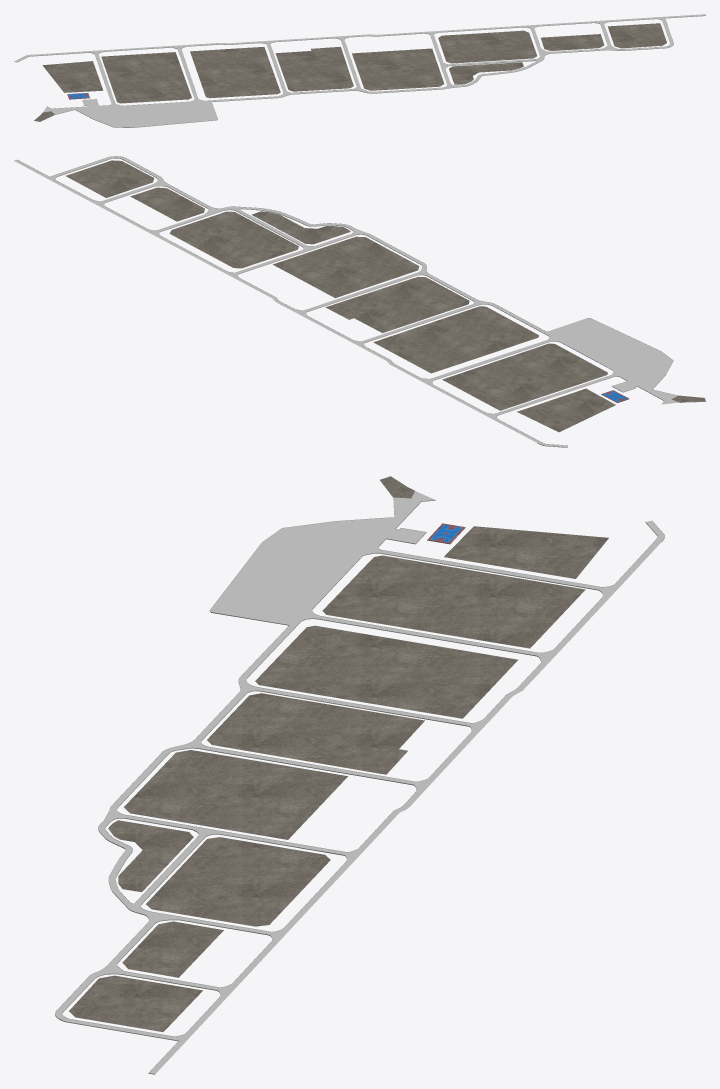
The model's file is road_p08_01.fbx.
The picture shows the model from 3 angles, top to bottom: view 1: azimuth 30°, elevation 25°; view 2: azimuth 150°, elevation 25°; view 3: azimuth 270°, elevation 25°; orthographic projection. The views are drawn at different scales.
Parts seen in each view (by area): view 1: road_p08_01; view 2: road_p08_01; view 3: road_p08_01.
Boxes of the visible parts, x1=… form: road_p08_01: x1=14, y1=14, x2=705, y2=127; road_p08_01: x1=14, y1=156, x2=705, y2=447; road_p08_01: x1=55, y1=476, x2=664, y2=1074.
Bounding box in the file's own units: 122350 × 70.19 × 52770.
